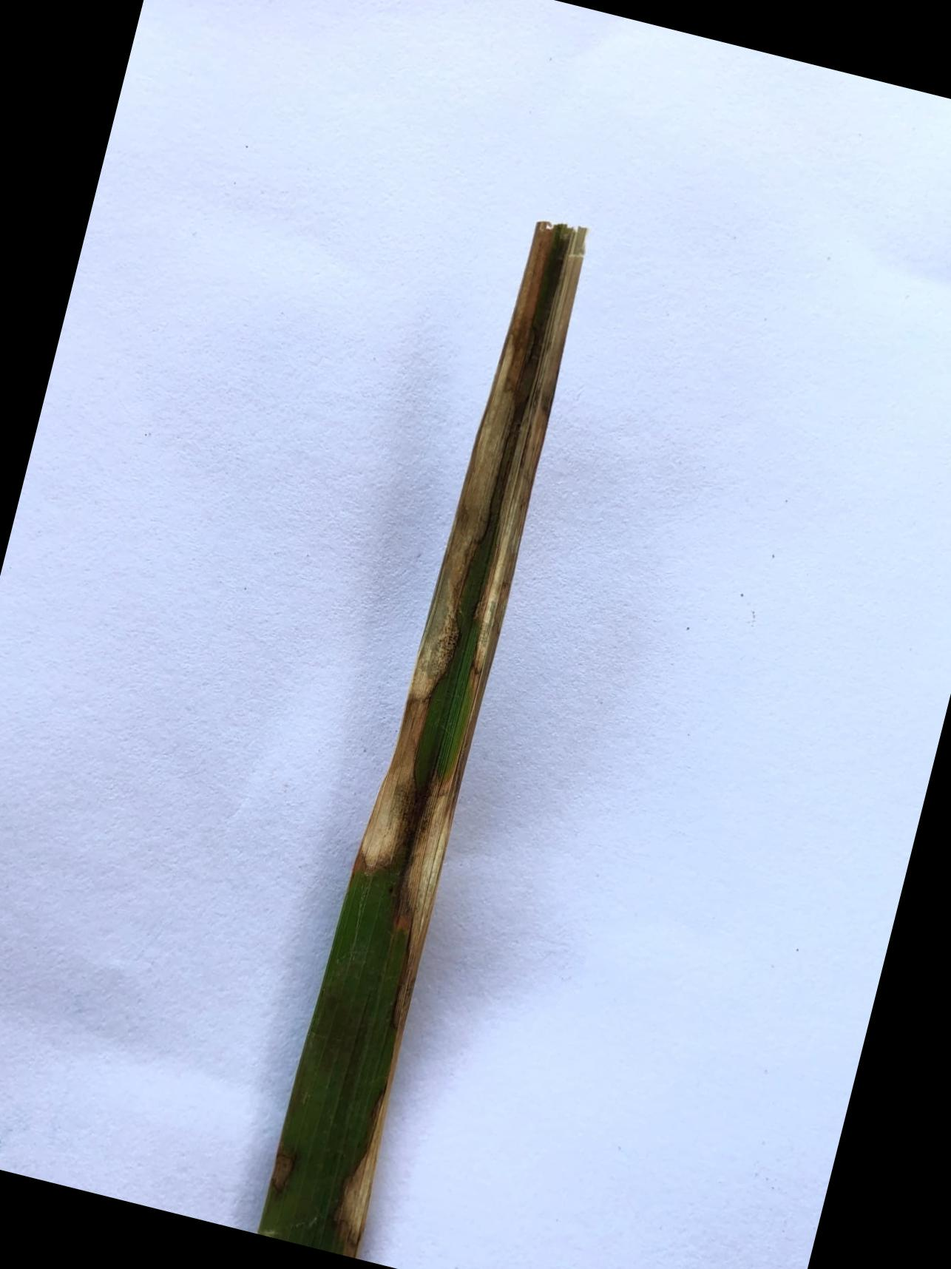Leaf Blight: (336, 226, 588, 1259), (359, 223, 552, 871)
